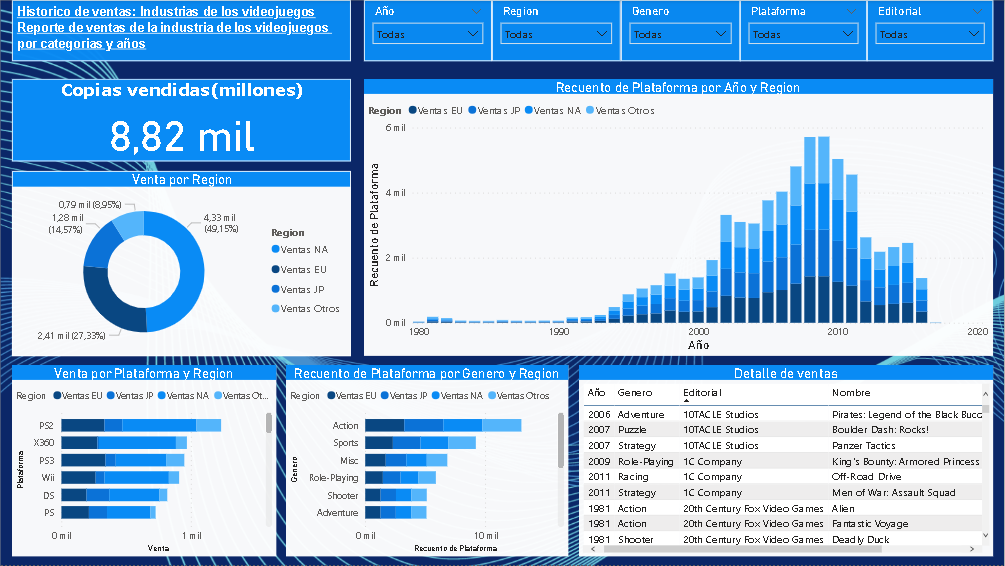

The page's visual inventory and layout, read from the dashboard file:
{"tool":"powerbi","page":{"name":"Página 1","canvas":[1280,720],"ordinal":0},"visuals":[{"type":"tableEx","title":"Detalle de ventas","fields":{"Values":["Ventas Videojuegos.Año","Ventas Videojuegos.Genero","Ventas Videojuegos.Editorial","Ventas Videojuegos.Nombre","Ventas Videojuegos.Plataforma"]},"box":[738.2,465.3,527.8,243.5],"z":0},{"type":"barChart","fields":{"Category":["Ventas Videojuegos.Genero"],"Y":["CountNonNull(Ventas Videojuegos.Plataforma)"],"Series":["Ventas Videojuegos.Region"]},"box":[364.6,465.3,359.5,243.5],"z":1000},{"type":"barChart","fields":{"Category":["Ventas Videojuegos.Plataforma"],"Series":["Ventas Videojuegos.Region"],"Y":["Sum(Ventas Videojuegos.Venta)"]},"box":[15.3,465.3,336.6,243.5],"z":2000},{"type":"donutChart","fields":{"Category":["Ventas Videojuegos.Region"],"Y":["Sum(Ventas Videojuegos.Venta)"]},"box":[15.3,218,432.2,235.9],"z":3000},{"type":"columnChart","fields":{"Category":["Ventas Videojuegos.Año"],"Series":["Ventas Videojuegos.Region"],"Y":["CountNonNull(Ventas Videojuegos.Plataforma)"]},"box":[464.1,100.7,801.9,353.1],"z":4000},{"type":"card","title":"Copias vendidas(millones)","fields":{"Values":["Sum(Ventas Videojuegos.Venta)"]},"box":[15.3,100.7,432.2,104.5],"z":5000},{"type":"slicer","fields":{"Values":["Ventas Videojuegos.Año"]},"box":[464.1,0,163.2,77.8],"z":6000},{"type":"textbox","title":"Historico de ventas: Industrias de los videojuegos","box":[15.3,0,432.2,77.8],"z":7000},{"type":"slicer","fields":{"Values":["Ventas Videojuegos.Region"]},"box":[627.3,0,164.5,77.8],"z":8000},{"type":"slicer","fields":{"Values":["Ventas Videojuegos.Genero"]},"box":[791.7,0,151.7,77.8],"z":9000},{"type":"slicer","fields":{"Values":["Ventas Videojuegos.Plataforma"]},"box":[943.4,0,161.9,77.8],"z":10000},{"type":"slicer","fields":{"Values":["Ventas Videojuegos.Editorial"]},"box":[1105.3,0,160.6,77.8],"z":11000}]}

Visuals, with their boxes in screenshot pixels (x1, y1, x2, y2), scaled from the page's 1280x720 canvas onto the 1005x566 screenshot:
"Detalle de ventas" tableEx: x1=580 y1=366 x2=994 y2=557
barChart - Ventas Videojuegos.Genero x CountNonNull(Ventas Videojuegos.Plataforma): x1=286 y1=366 x2=569 y2=557
barChart - Ventas Videojuegos.Plataforma x Ventas Videojuegos.Region: x1=12 y1=366 x2=276 y2=557
donutChart - Ventas Videojuegos.Region x Sum(Ventas Videojuegos.Venta): x1=12 y1=171 x2=351 y2=357
columnChart - Ventas Videojuegos.Año x Ventas Videojuegos.Region: x1=364 y1=79 x2=994 y2=357
"Copias vendidas(millones)" card: x1=12 y1=79 x2=351 y2=161
slicer - Ventas Videojuegos.Año: x1=364 y1=0 x2=493 y2=61
"Historico de ventas: Industrias de los videojuegos" textbox: x1=12 y1=0 x2=351 y2=61
slicer - Ventas Videojuegos.Region: x1=493 y1=0 x2=622 y2=61
slicer - Ventas Videojuegos.Genero: x1=622 y1=0 x2=741 y2=61
slicer - Ventas Videojuegos.Plataforma: x1=741 y1=0 x2=868 y2=61
slicer - Ventas Videojuegos.Editorial: x1=868 y1=0 x2=994 y2=61
